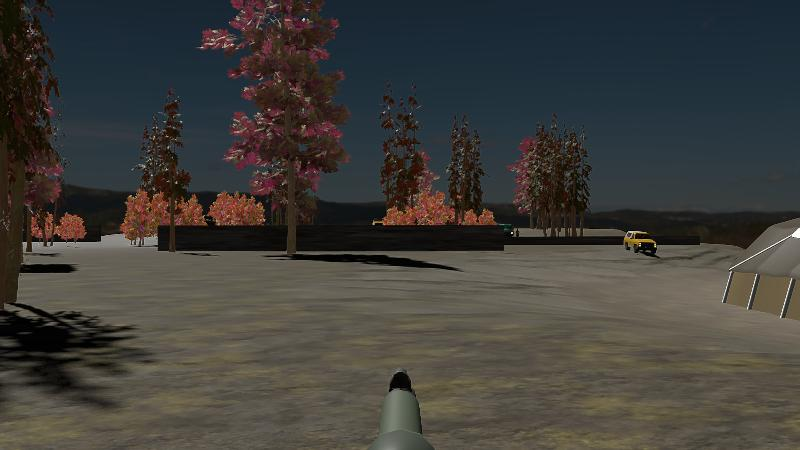car: (622, 229, 659, 256)
